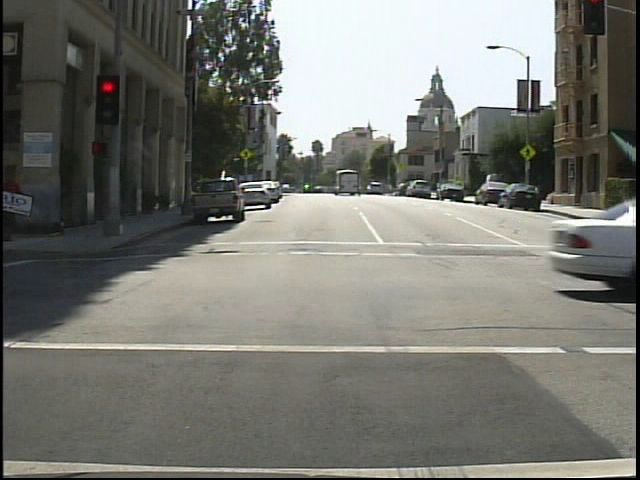person: (4, 158, 26, 244)
